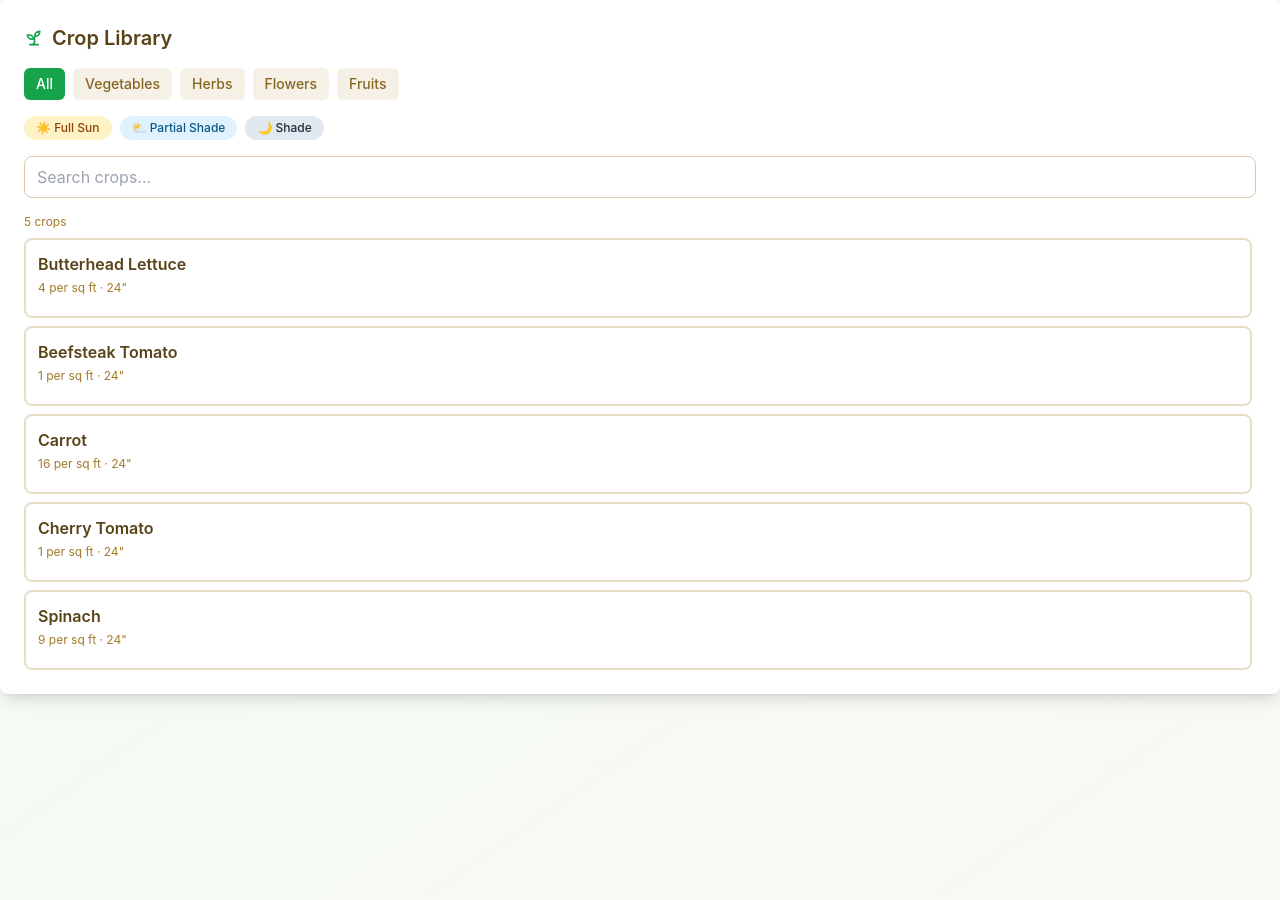
Test: CropLibrary › Search and Filter › filters crops by search query
The image size is (1280, 900).
Type "tom" into the field with placeholder "Search crops...".
click(640, 177); type("tom")  # box [24, 156, 1256, 198]
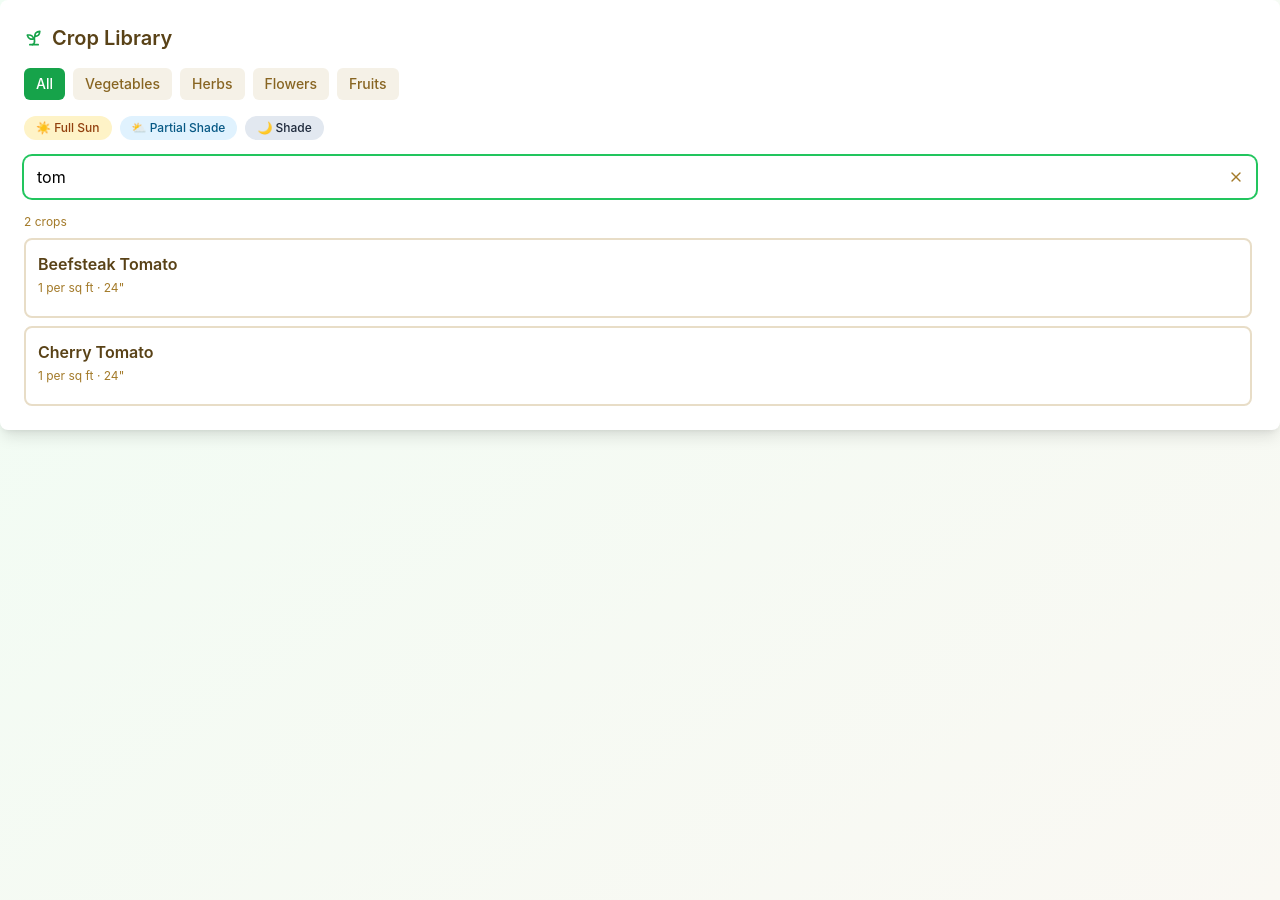
Check: the button "Butterhead Lettuce" is gone
Check: the button "Carrot" is gone
Check: the button "Spinach" is gone
